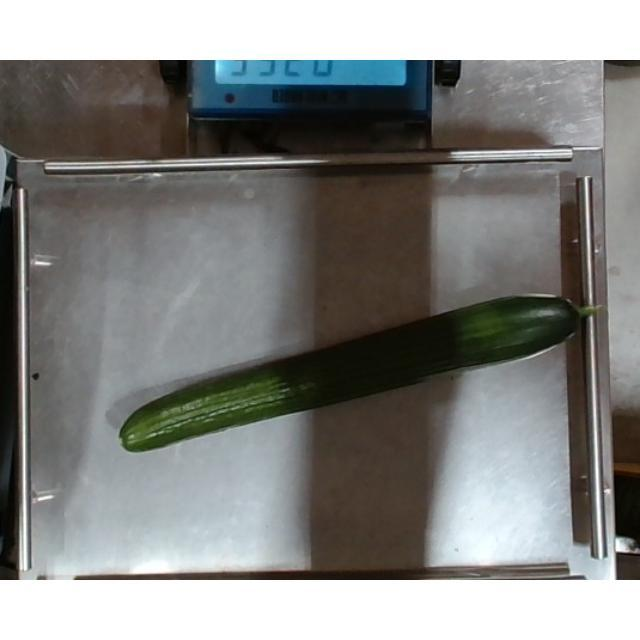cucumber: (117, 293, 605, 455)
